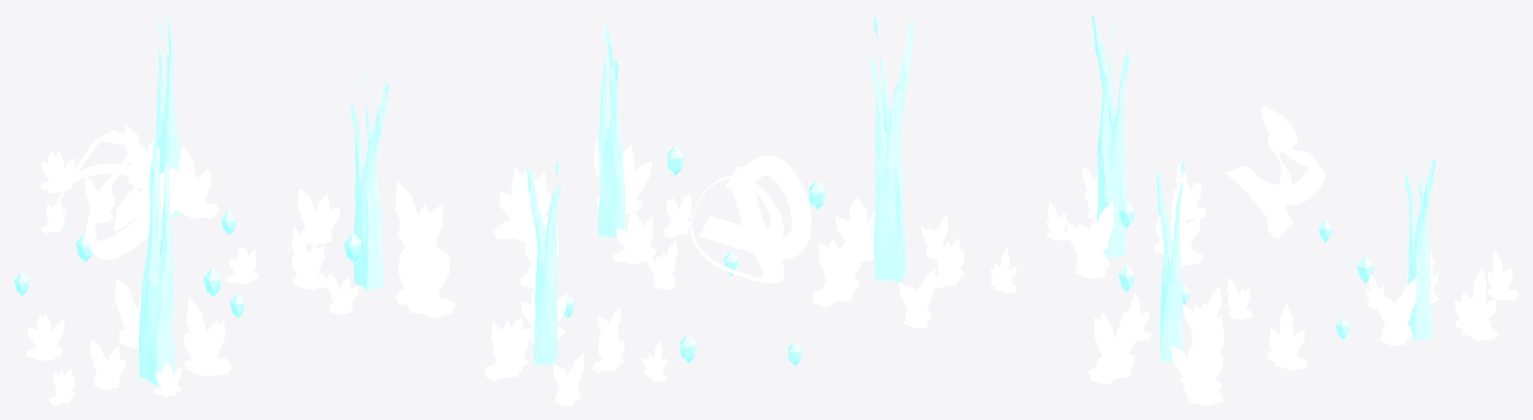
File: asset.glb
3 views of the same model, side by side, from view 1: azimuth 30°, elevation 25°; view 2: azimuth 150°, elevation 25°; view 3: azimuth 270°, elevation 25° (orthographic). The views are drawn at different scales.
Visible parts, largest first — view 1: Icosphere.004, Icosphere.001, Cube.001, BezierCurve, Icosphere.002, Cube.002, Cube; view 2: BezierCurve, Icosphere.004, Icosphere.001, Cube.001, Icosphere.002, Cube.002, Cube; view 3: Icosphere.004, Icosphere.001, Icosphere.002, Cube.001, BezierCurve, Cube.002, Cube.
Boxes of the visible parts, bbox=[...] form: Icosphere.004: bbox=[226, 180, 455, 318]; Icosphere.001: bbox=[26, 278, 231, 405]; Cube.001: bbox=[139, 114, 174, 385]; BezierCurve: bbox=[53, 130, 191, 259]; Icosphere.002: bbox=[40, 124, 218, 233]; Cube.002: bbox=[350, 69, 389, 290]; Cube: bbox=[155, 14, 181, 219]; BezierCurve: bbox=[690, 155, 811, 283]; Icosphere.004: bbox=[493, 139, 691, 290]; Icosphere.001: bbox=[812, 197, 1017, 328]; Cube.001: bbox=[869, 14, 914, 282]; Icosphere.002: bbox=[484, 286, 667, 405]; Cube.002: bbox=[598, 19, 625, 237]; Cube: bbox=[527, 160, 560, 364]; Icosphere.004: bbox=[1088, 276, 1307, 405]; Icosphere.001: bbox=[1046, 164, 1206, 278]; Icosphere.002: bbox=[1366, 250, 1518, 345]; Cube.001: bbox=[1091, 14, 1129, 258]; BezierCurve: bbox=[1226, 105, 1325, 237]; Cube.002: bbox=[1156, 159, 1185, 361]; Cube: bbox=[1404, 145, 1436, 340].
Bounding box in the file's own units: 41.14 × 22.84 × 39.59.
